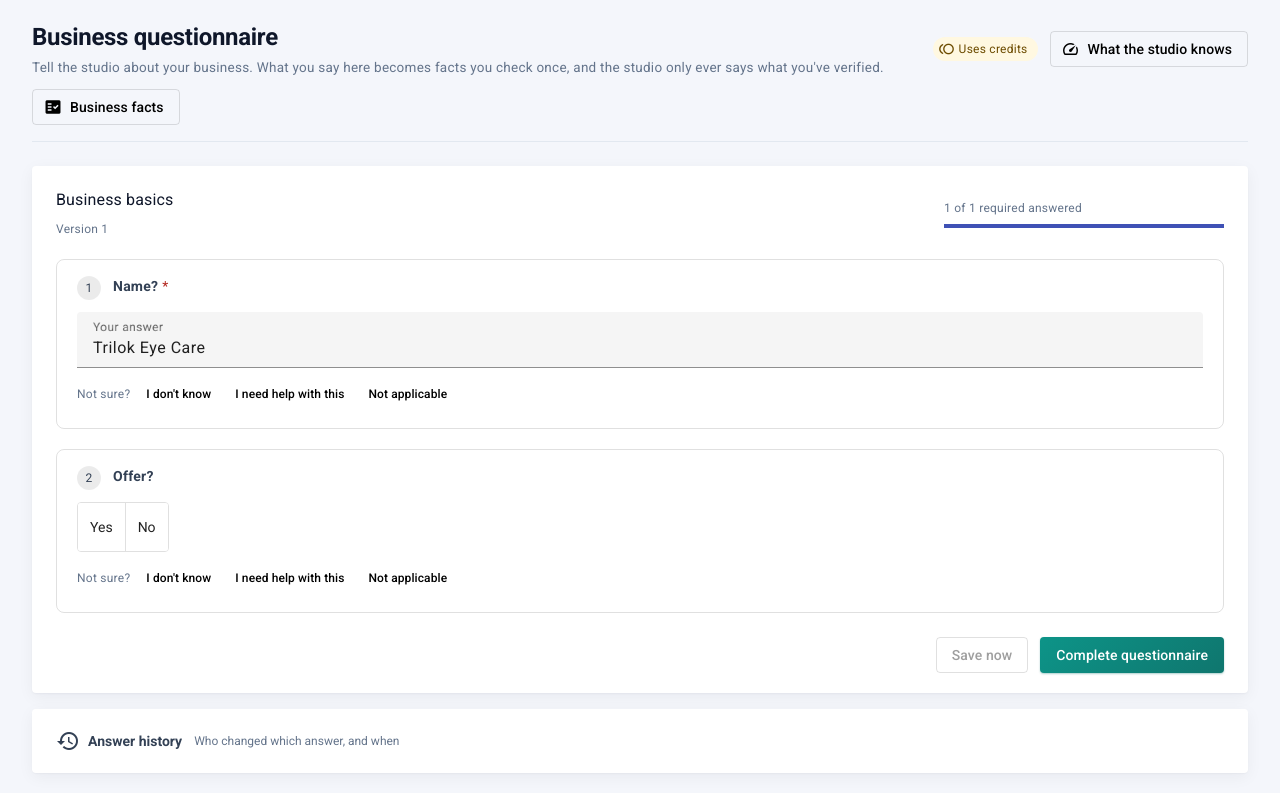
Scenario: StudioQuestionnaireComponent › answer history › says so when nothing has changed yet
Click the button with class "history-toggle".
click(135, 741)  # box [56, 729, 1224, 753]
(page scrolled)
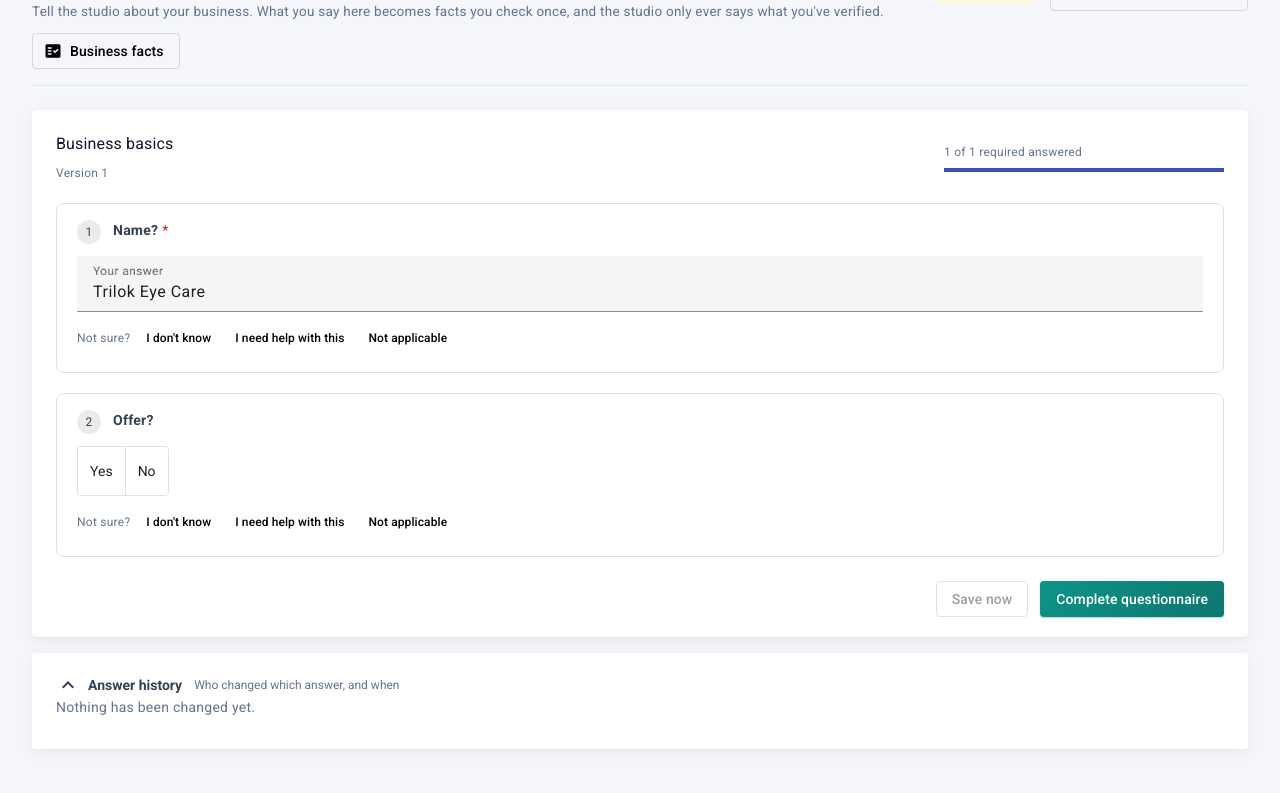
Now the element with class "history" shows "Nothing has been changed yet.", box [56, 699, 255, 715]
